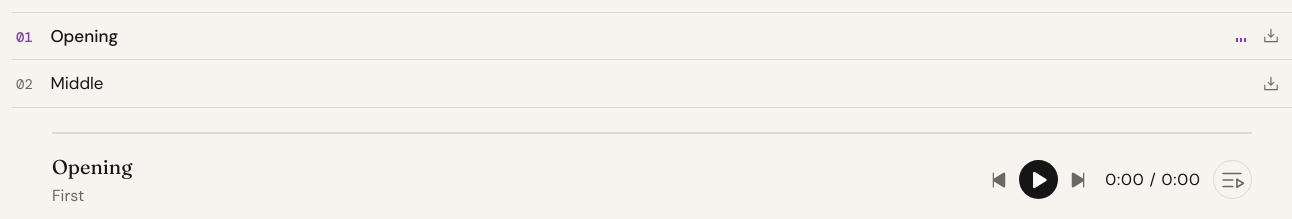
Test: track list › lets a member start a track and marks it active
Click the button with aria-label "Play Middle" at (77, 83), box [12,60,1250,107]
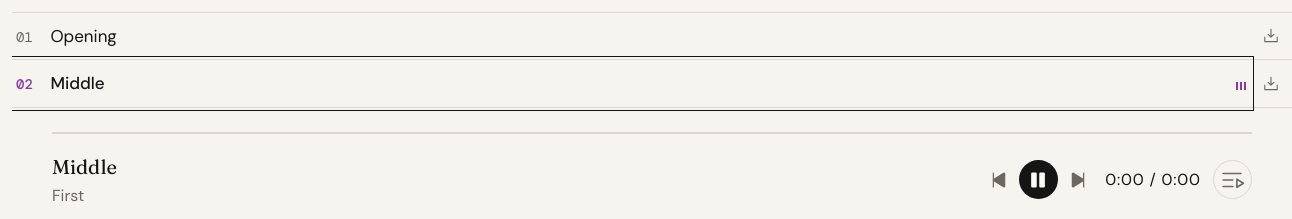
Expected: the button named "Pause" is shown, [1019,160,1058,199]
